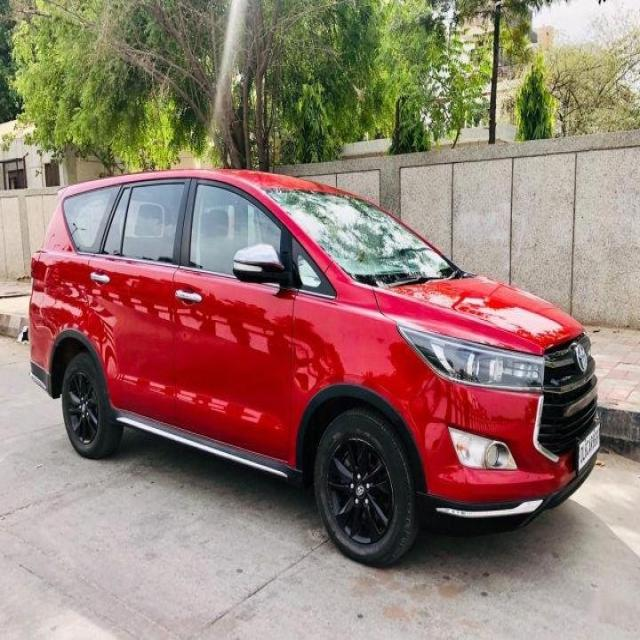light_vehicle: (28, 167, 602, 566)
